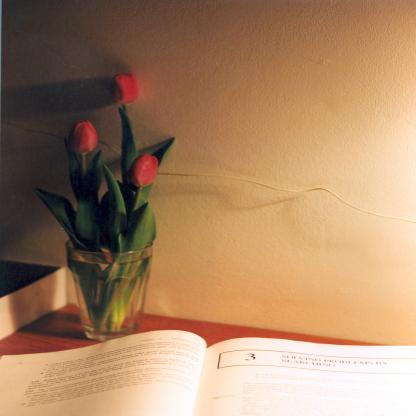book: (0, 330, 416, 416), (0, 256, 68, 339)
